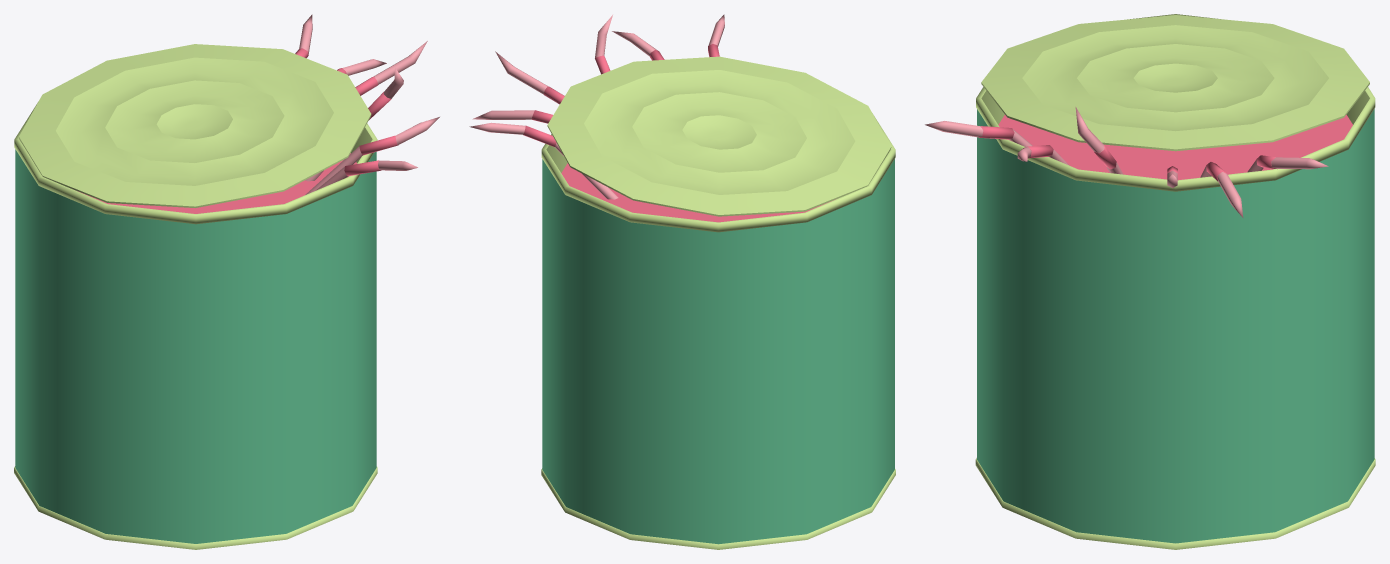
Rendered from lataaberta.fbx.
3 views of the same model, side by side, from view 1: azimuth 30°, elevation 25°; view 2: azimuth 150°, elevation 25°; view 3: azimuth 270°, elevation 25° (orthographic). The views are drawn at different scales.
Visible parts, largest first — view 1: lataaberta; view 2: lataaberta; view 3: lataaberta.
Boxes of the visible parts, box(x1,y1,x2,y2) form: lataaberta: box(14, 14, 439, 549); lataaberta: box(469, 14, 895, 549); lataaberta: box(925, 14, 1375, 549).
Size of the model in its own units: 11.24 by 11.11 by 10.29.
